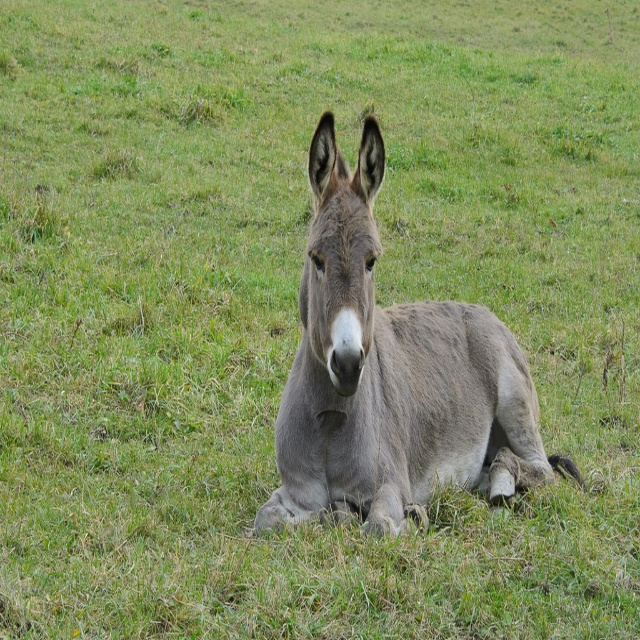Mule: (254, 111, 586, 542)
